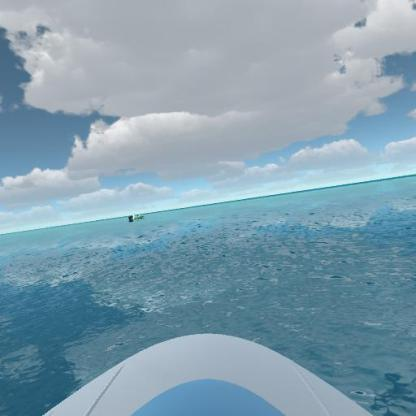usv0: (123, 208, 150, 226)
